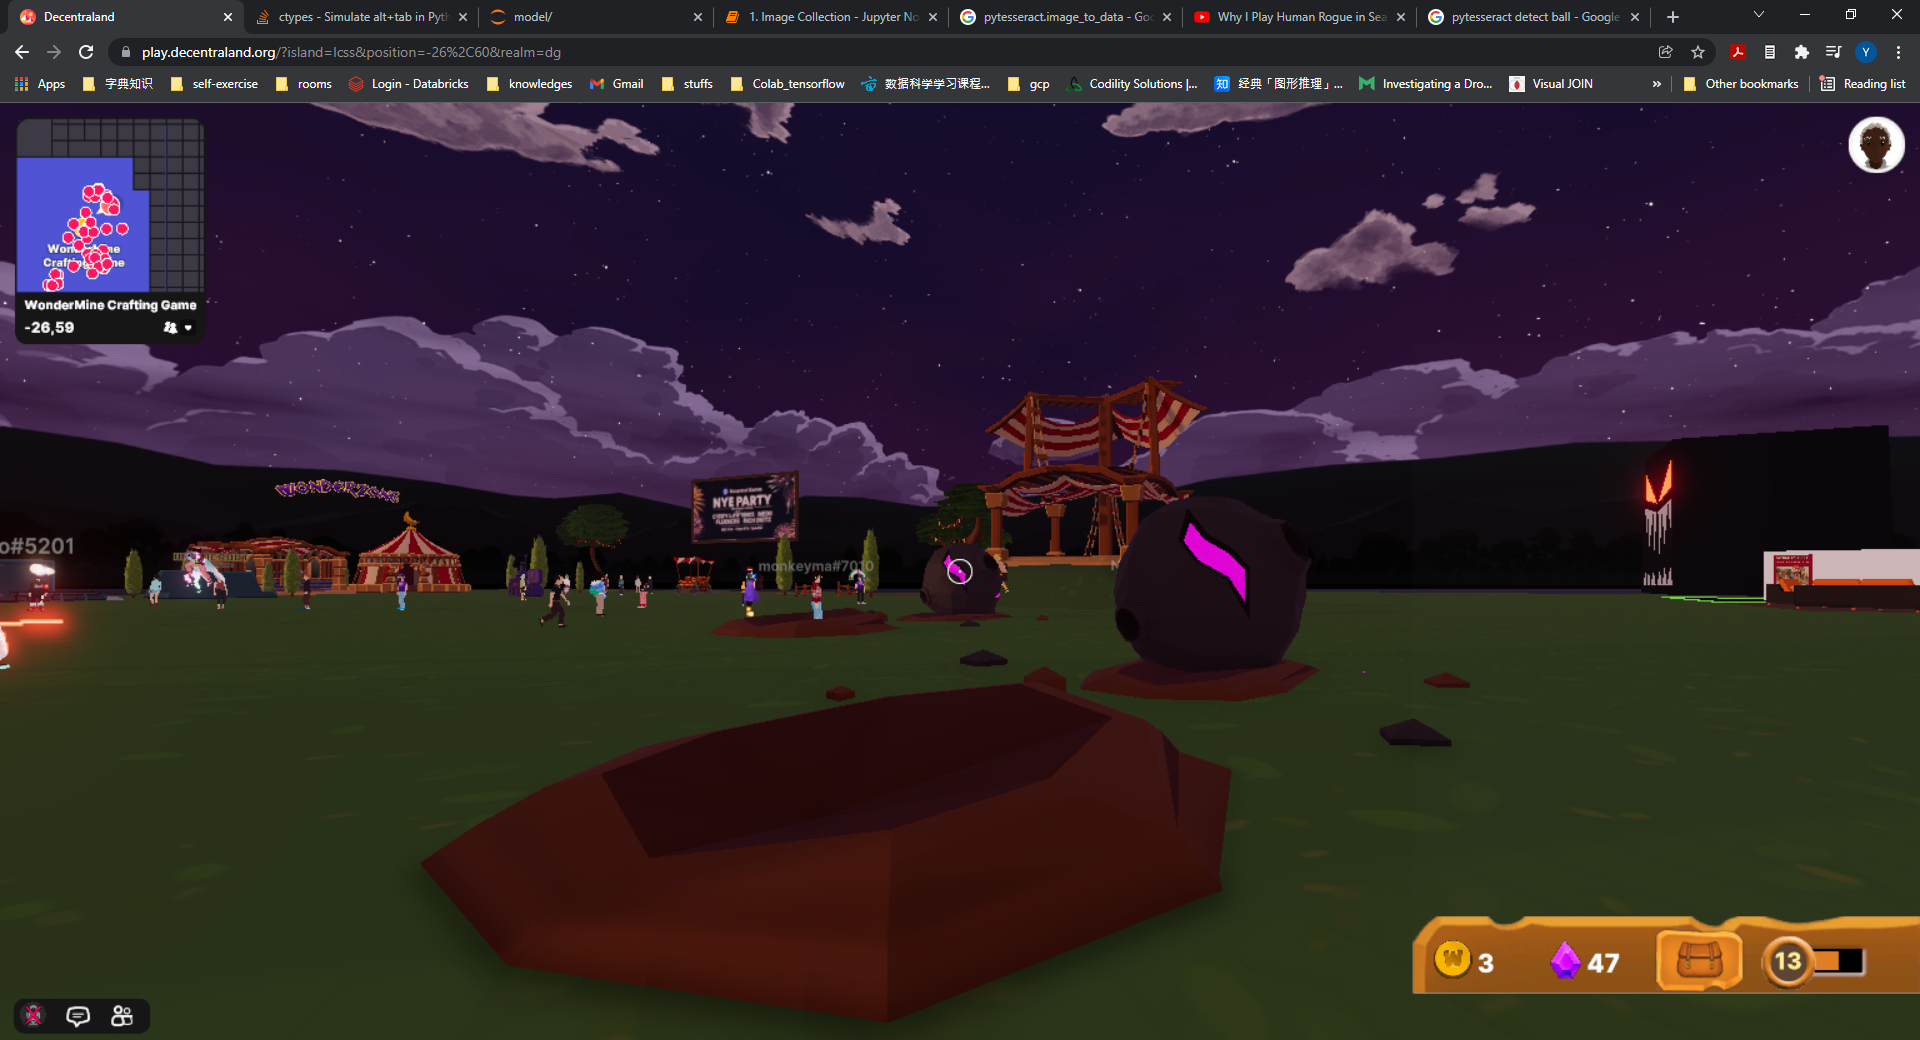black_ball: (1106, 489, 1382, 692), (879, 506, 1029, 640)
